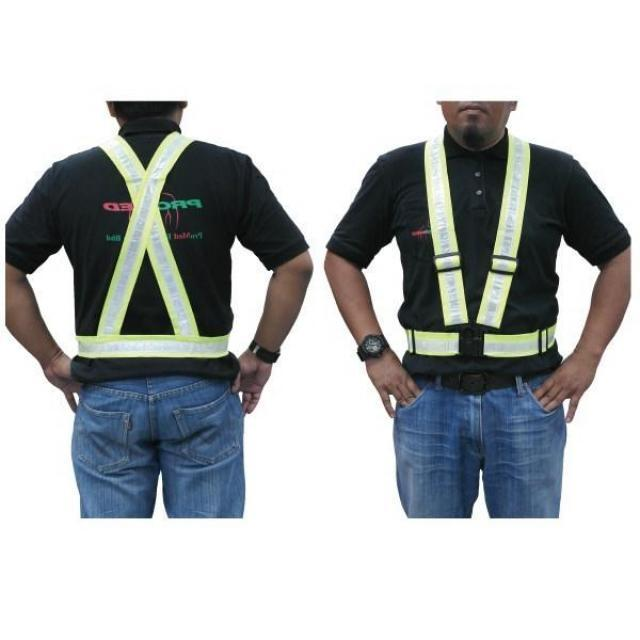reflective_jacket: (379, 130, 581, 374), (59, 129, 261, 365)
